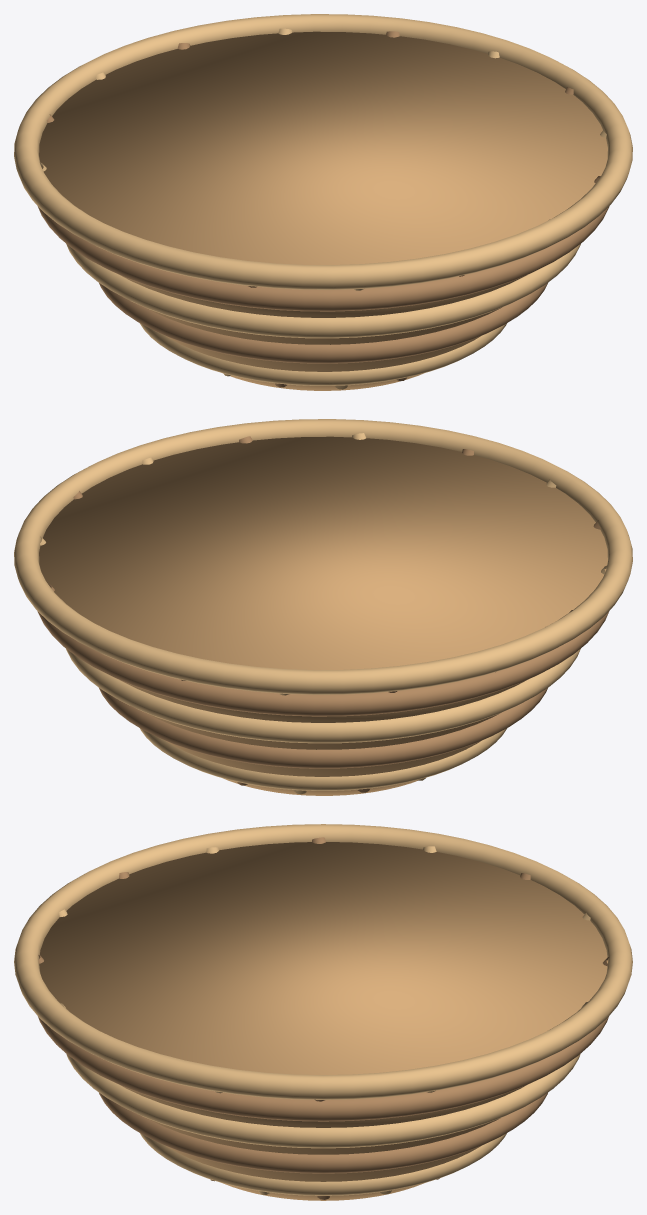
Rendered from basket.glb.
3 renders of one model, top to bottom at view 1: azimuth 30°, elevation 25°; view 2: azimuth 150°, elevation 25°; view 3: azimuth 270°, elevation 25°, orthographic.
Parts seen in each view (by area): view 1: Basket bowl, Woven ring 04, Woven ring 03, Woven ring 02, Woven ring 01, Woven ring 00; view 2: Basket bowl, Woven ring 04, Woven ring 03, Woven ring 02, Woven ring 01, Woven ring 00; view 3: Basket bowl, Woven ring 04, Woven ring 03, Woven ring 02, Woven ring 01, Woven ring 00.
Part boxes in pixels (bbox=[...]): Basket bowl: bbox=[39, 31, 607, 390]; Woven ring 04: bbox=[14, 14, 632, 289]; Woven ring 03: bbox=[37, 206, 609, 311]; Woven ring 02: bbox=[66, 243, 580, 338]; Woven ring 01: bbox=[99, 283, 547, 363]; Woven ring 00: bbox=[139, 323, 506, 385]; Basket bowl: bbox=[39, 436, 607, 795]; Woven ring 04: bbox=[14, 419, 632, 694]; Woven ring 03: bbox=[37, 611, 609, 716]; Woven ring 02: bbox=[66, 648, 580, 743]; Woven ring 01: bbox=[99, 688, 547, 768]; Woven ring 00: bbox=[140, 728, 507, 790]; Basket bowl: bbox=[39, 842, 607, 1200]; Woven ring 04: bbox=[14, 824, 632, 1099]; Woven ring 03: bbox=[38, 1016, 608, 1121]; Woven ring 02: bbox=[66, 1054, 580, 1148]; Woven ring 01: bbox=[99, 1093, 547, 1173]; Woven ring 00: bbox=[140, 1133, 506, 1195].
Size of the model in its own units: 1.73 by 0.5833 by 1.73.
